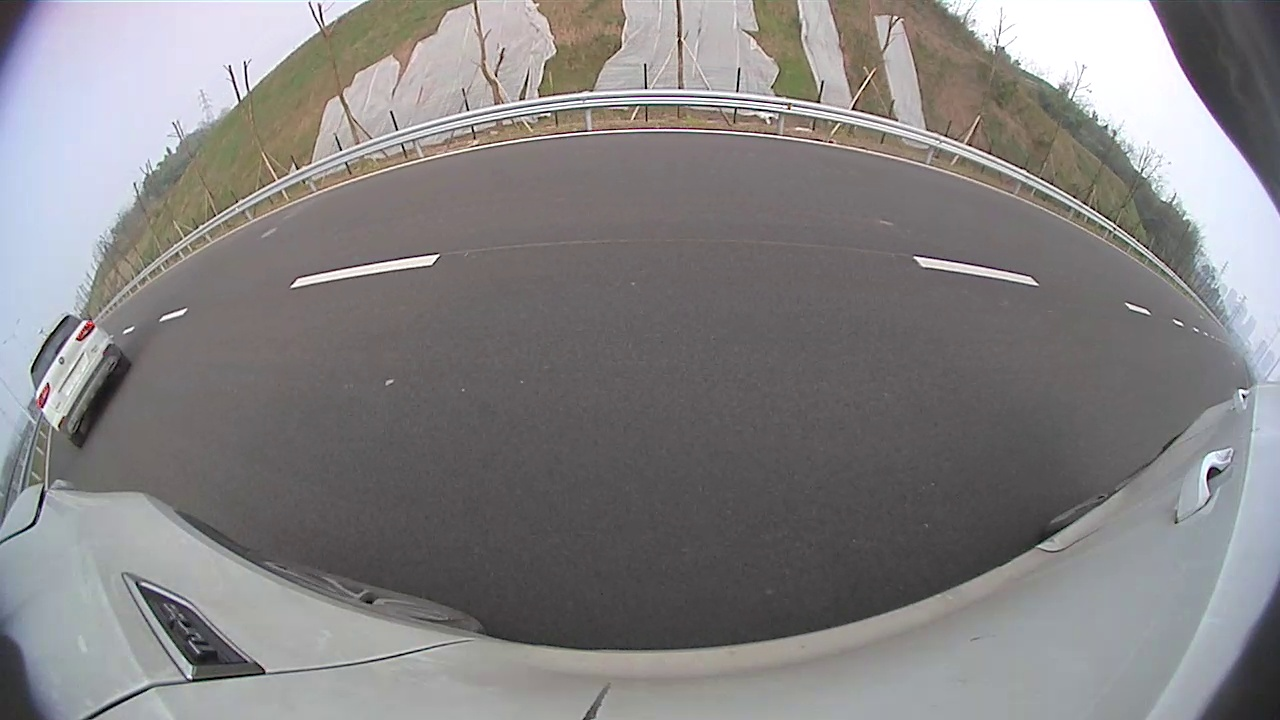car: (406, 134, 557, 237)
front: (543, 175, 553, 207)
rear: (503, 183, 522, 223)
